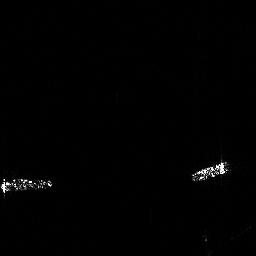ship: (1, 174, 53, 195), (190, 160, 231, 181)
